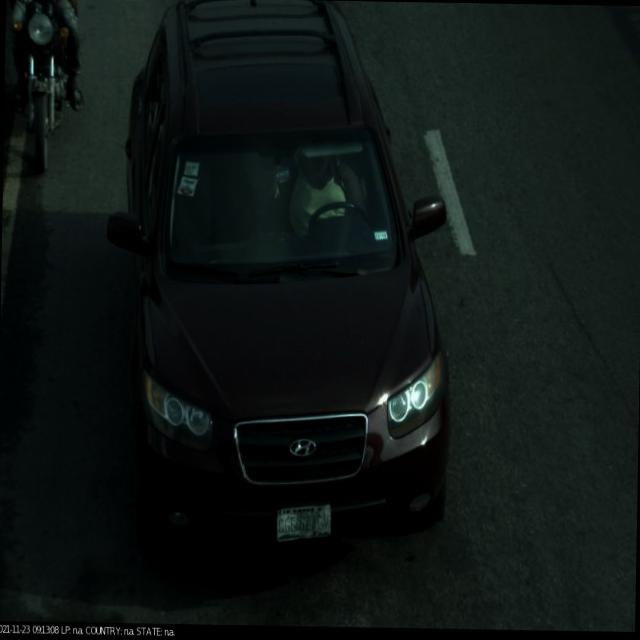person_without_seatbelt: (265, 136, 374, 270)
